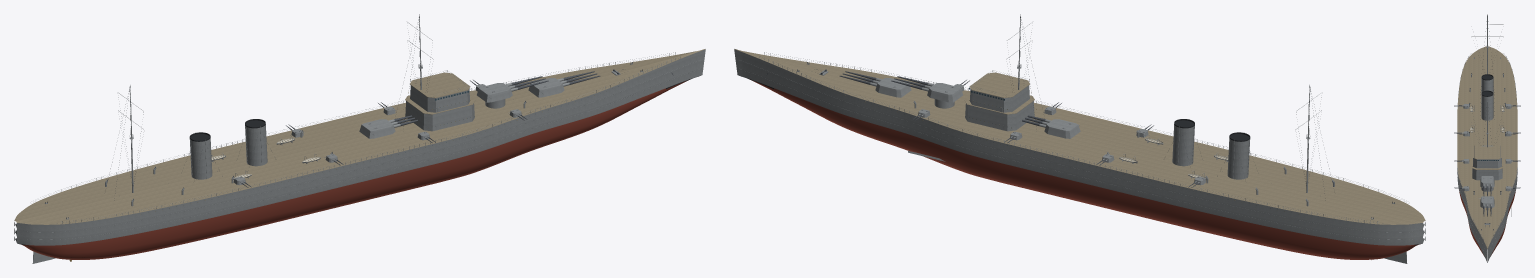
3 renders of one model, left to right at view 1: azimuth 30°, elevation 25°; view 2: azimuth 150°, elevation 25°; view 3: azimuth 270°, elevation 25°, orthographic. The views are drawn at different scales.
Visible parts, largest first — view 1: G3 battlecruiser (canceled); view 2: G3 battlecruiser (canceled); view 3: G3 battlecruiser (canceled).
Part boxes in pixels (left/top/right/bottom): G3 battlecruiser (canceled): left=14, top=14, right=705, bottom=263; G3 battlecruiser (canceled): left=734, top=14, right=1425, bottom=263; G3 battlecruiser (canceled): left=1454, top=14, right=1520, bottom=262.
Size of the model in its own units: 261 by 56.99 by 35.87.
8 materials, 2 textured.
